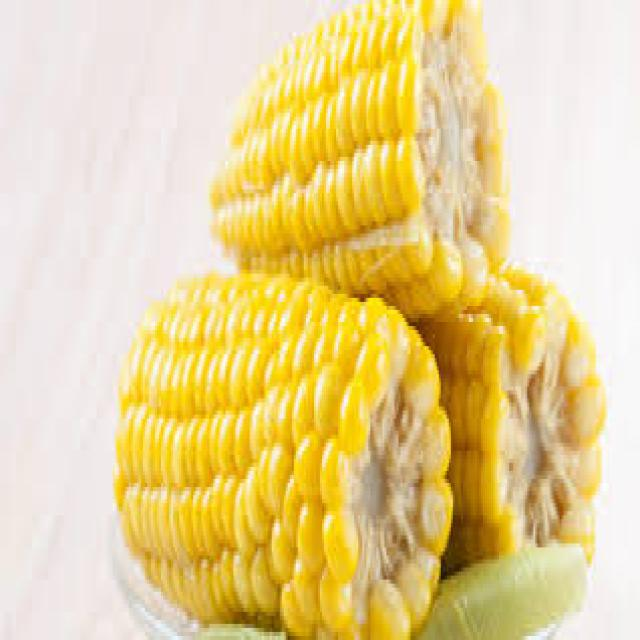corn: (111, 269, 452, 640), (206, 0, 510, 312), (431, 263, 610, 621)
